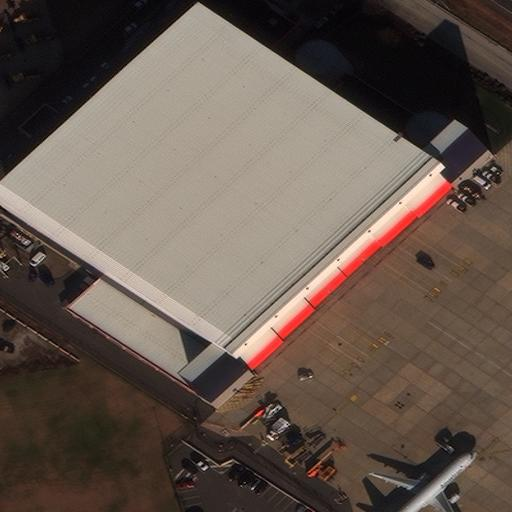Medium Civil Transport: (372, 450, 477, 512)
